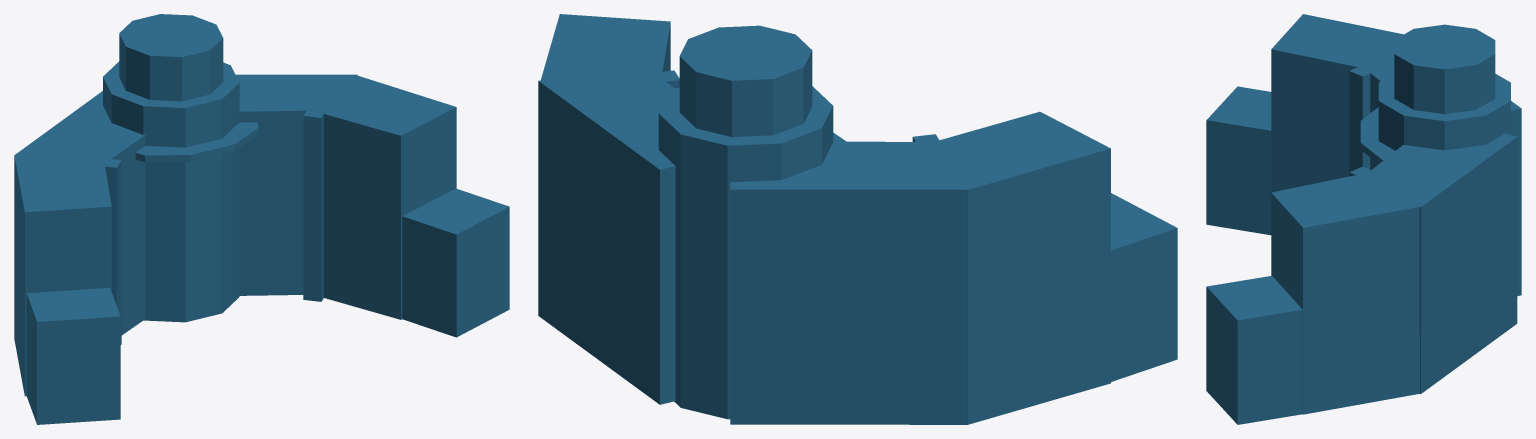
File: SM_Bld_Background_05_Collision.fbx
The picture shows the model from 3 angles, left to right: view 1: azimuth 30°, elevation 25°; view 2: azimuth 150°, elevation 25°; view 3: azimuth 270°, elevation 25°; orthographic projection. The views are drawn at different scales.
Visible parts, largest first — view 1: SM_Bld_Background_05_Collision; view 2: SM_Bld_Background_05_Collision; view 3: SM_Bld_Background_05_Collision.
Boxes of the visible parts, x1=… form: SM_Bld_Background_05_Collision: x1=14, y1=14, x2=509, y2=424; SM_Bld_Background_05_Collision: x1=538, y1=14, x2=1177, y2=424; SM_Bld_Background_05_Collision: x1=1206, y1=14, x2=1521, y2=424.
Bounding box in the file's own units: 8010 × 4185 × 4556.
